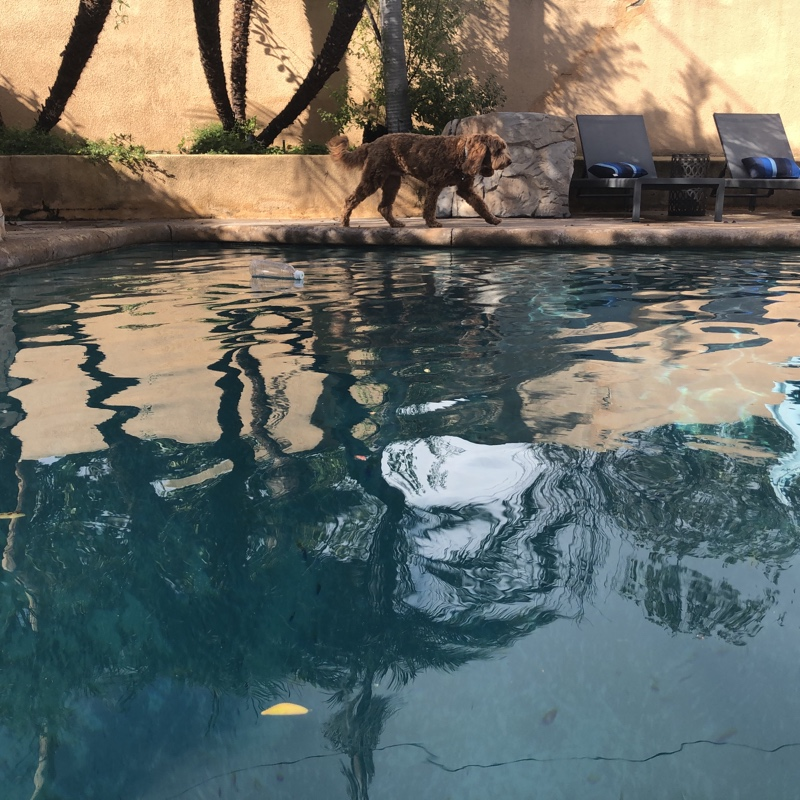Plastic Bottle: (246, 260, 307, 284)
